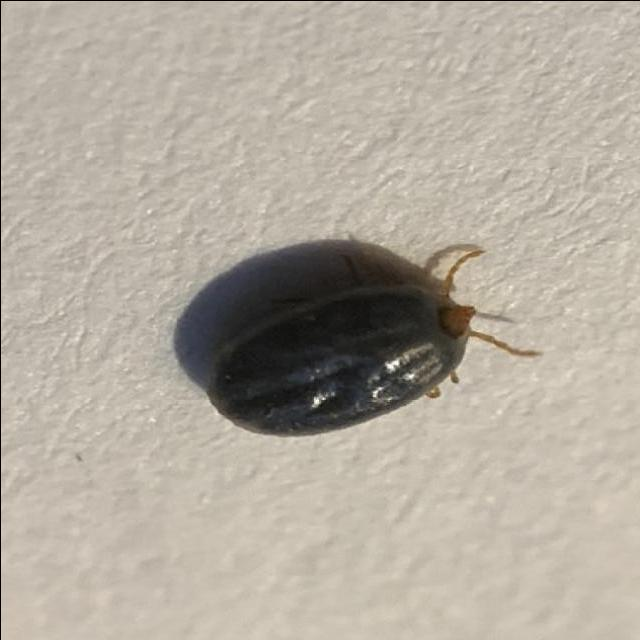Rhipicephalus Sanguineus-F-Fed: (204, 248, 526, 436)
